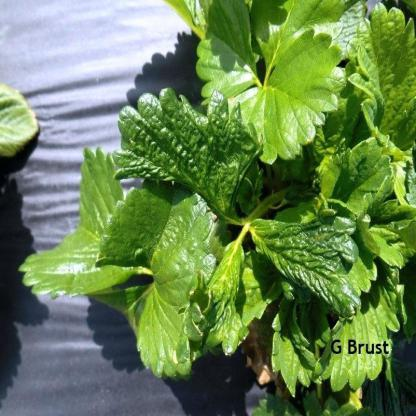Strawberry leaf: (198, 1, 347, 159), (113, 90, 256, 214), (13, 212, 154, 305), (155, 187, 213, 301), (135, 286, 198, 380)
